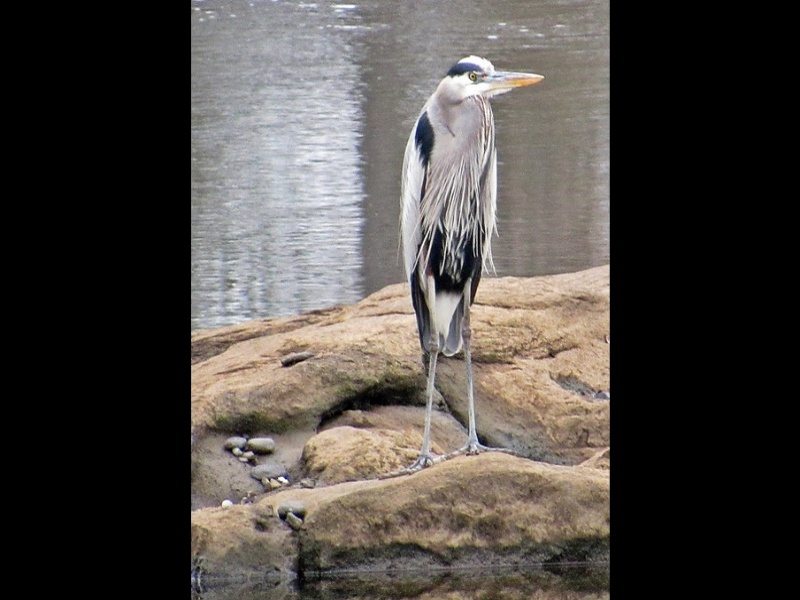heron: (397, 52, 549, 476)
